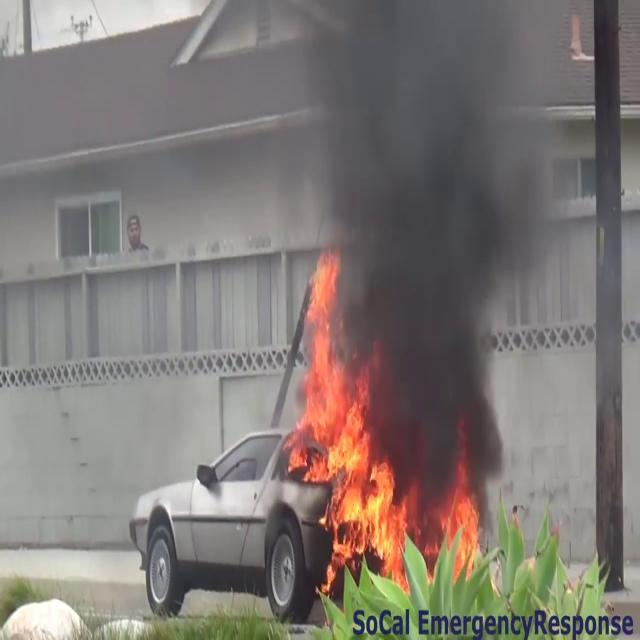Fire: (287, 249, 405, 587), (436, 439, 490, 586)
Smoke: (284, 1, 564, 460)
